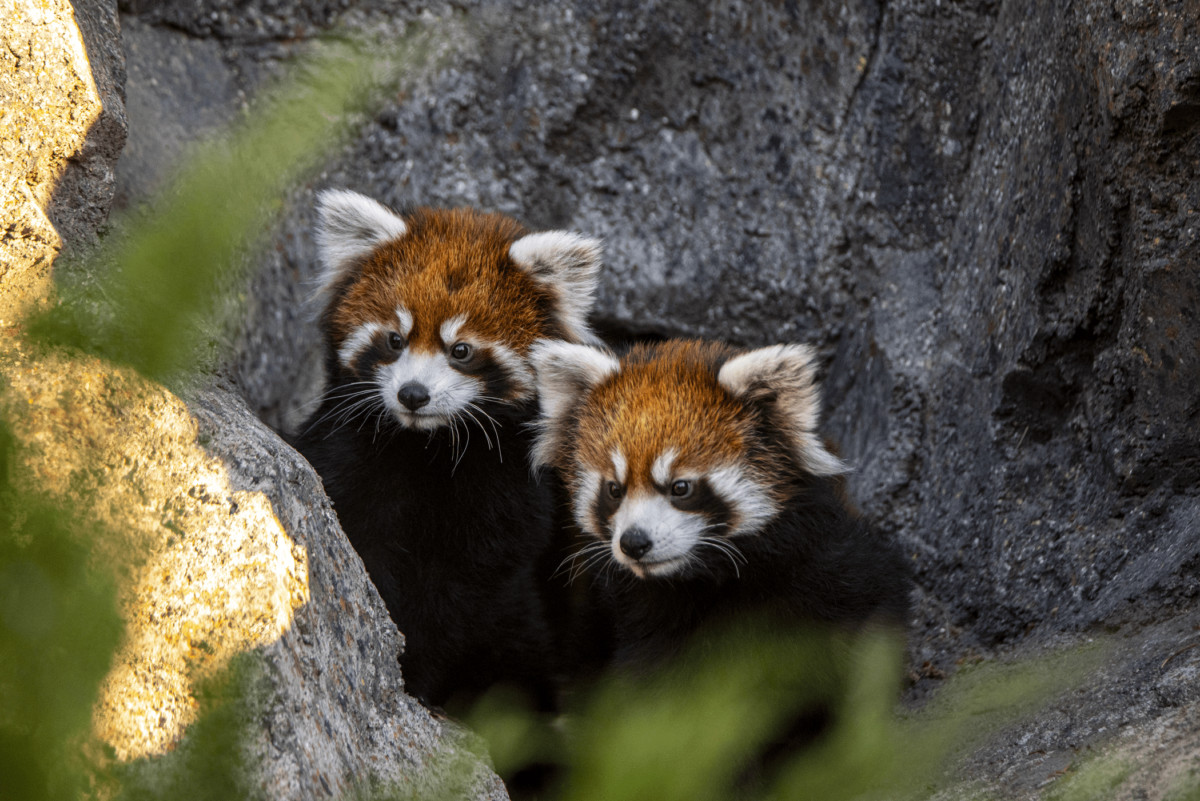Red panda: (526, 332, 853, 582), (309, 189, 599, 426)
